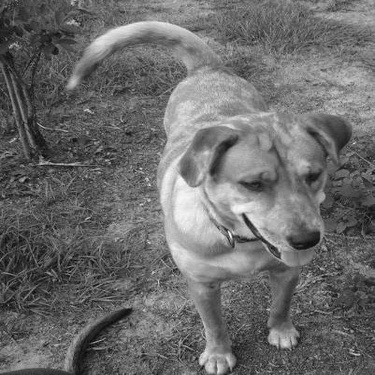dog: (54, 12, 353, 364), (1, 296, 142, 372)
